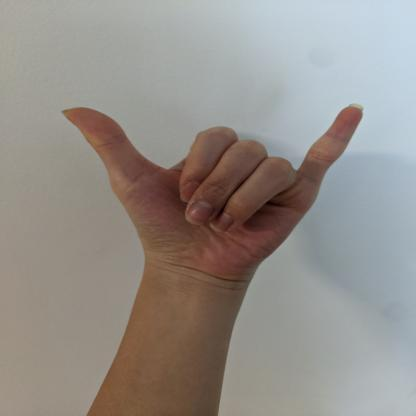Y: (58, 101, 369, 280)
